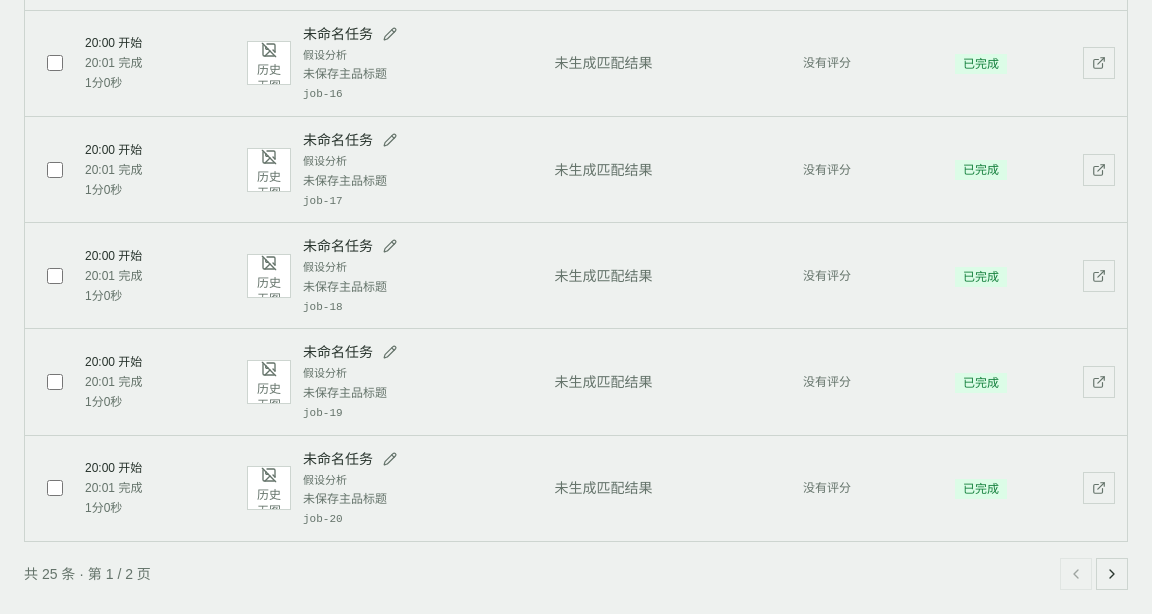
Test: navigates to next page on pagination click
(page scrolled)
What coordinates should you click on to do the following:
click the button named "下一页"
I would click on:
 (1112, 574)
Its box is [1096,558,1128,590].
(page scrolled)
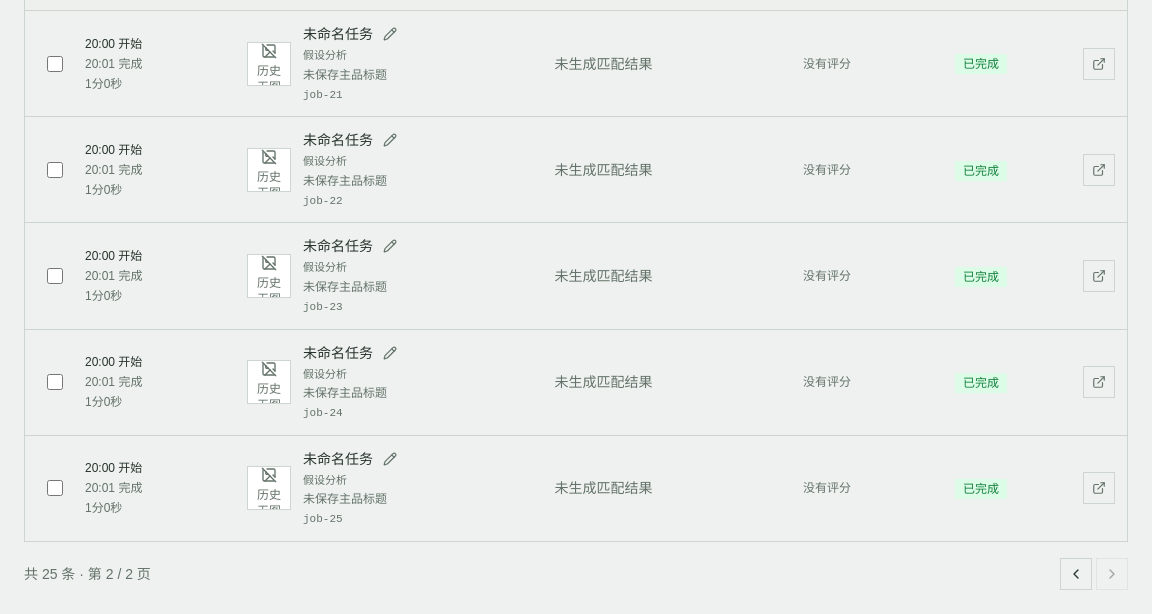
Result: the text "job-21" is shown at [303,89,343,101]
